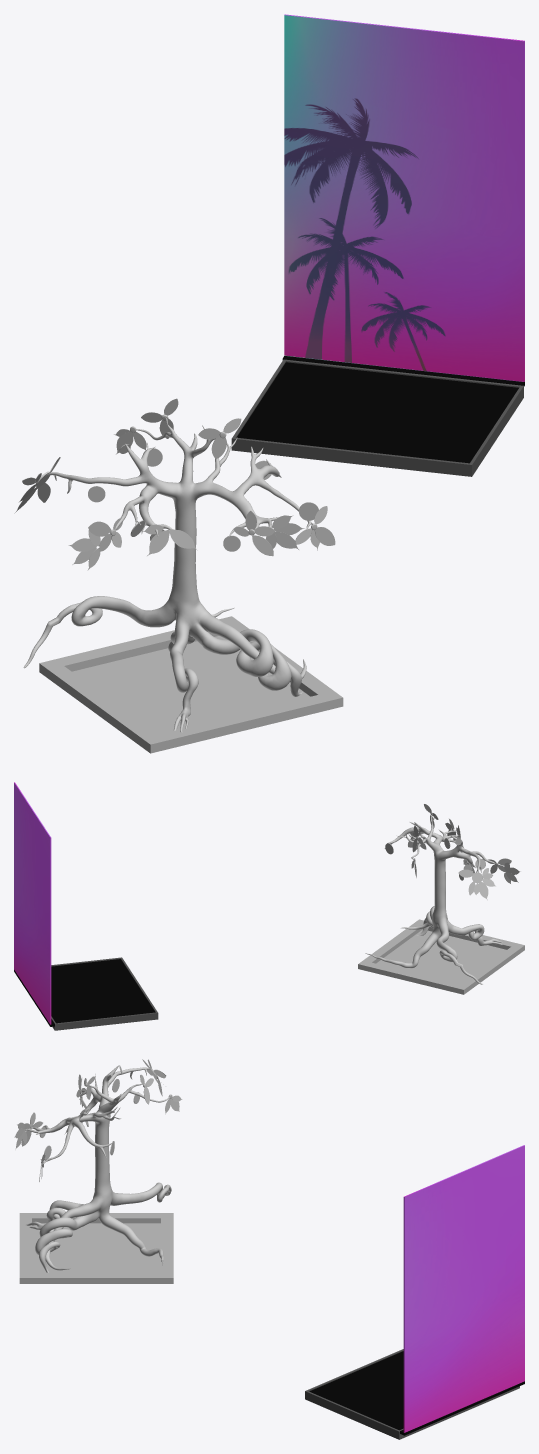
The model's file is Tree_Base.fbx.
3 renders of one model, top to bottom at view 1: azimuth 30°, elevation 25°; view 2: azimuth 150°, elevation 25°; view 3: azimuth 270°, elevation 25°, orthographic. The views are drawn at different scales.
Parts seen in each view (by area): view 1: Rectangle6724, Rectangle6720, tree2, Rectangle6719, Rectangle6718, Rectangle6721, flowers4, flowers015, Rectangle6723; view 2: Rectangle6724, Rectangle6720, tree2, Rectangle6719, Rectangle6718, Rectangle6721, flowers6, flowers015; view 3: Rectangle6724, tree2, Rectangle6719, Rectangle6718, Rectangle6720, Rectangle6721.
Boxes of the visible parts, bbox=[...] form: Rectangle6724: bbox=[284, 14, 524, 381]; Rectangle6720: bbox=[236, 362, 518, 463]; tree2: bbox=[23, 417, 312, 732]; Rectangle6719: bbox=[72, 636, 309, 733]; Rectangle6718: bbox=[39, 616, 343, 753]; Rectangle6721: bbox=[231, 359, 523, 476]; flowers4: bbox=[233, 510, 304, 556]; flowers015: bbox=[68, 518, 122, 570]; Rectangle6723: bbox=[282, 356, 524, 386]; Rectangle6724: bbox=[14, 782, 51, 1024]; Rectangle6720: bbox=[51, 959, 155, 1023]; tree2: bbox=[365, 814, 502, 984]; Rectangle6719: bbox=[376, 929, 506, 983]; Rectangle6718: bbox=[358, 919, 524, 994]; Rectangle6721: bbox=[51, 957, 158, 1030]; flowers6: bbox=[458, 868, 495, 900]; flowers015: bbox=[488, 858, 520, 883]; Rectangle6724: bbox=[403, 1145, 524, 1432]; tree2: bbox=[24, 1065, 171, 1272]; Rectangle6719: bbox=[32, 1223, 160, 1272]; Rectangle6718: bbox=[19, 1213, 173, 1283]; Rectangle6720: bbox=[309, 1351, 403, 1430]; Rectangle6721: bbox=[305, 1349, 519, 1439].
Bounding box in the file's own units: 1828 × 890 × 1686.
